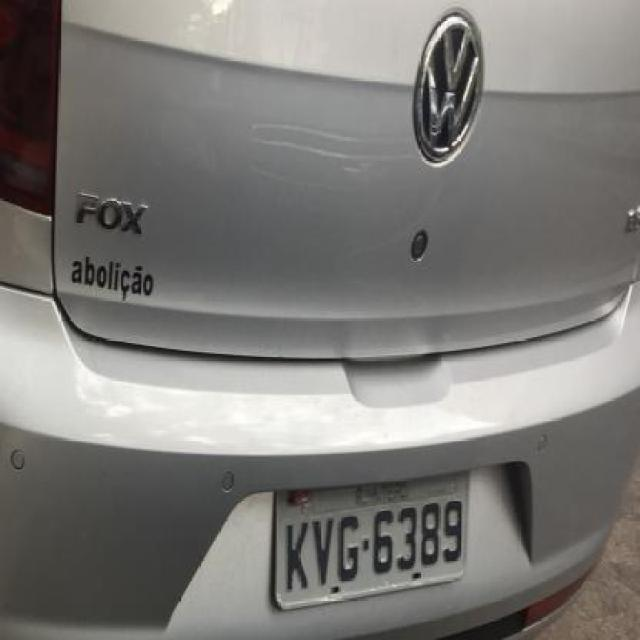old_plate: (264, 464, 476, 618)
